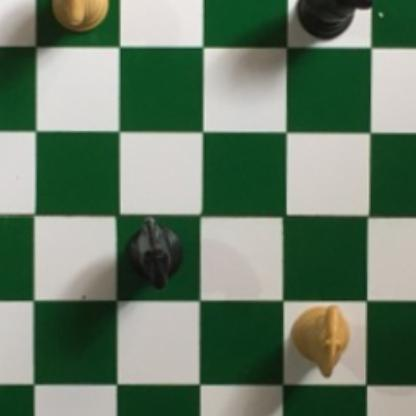black-knight: (122, 217, 189, 292), (295, 0, 372, 44)
white-knight: (288, 304, 353, 377), (47, 0, 110, 37)
